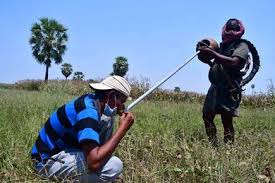mask: (97, 70, 128, 120), (218, 16, 244, 46)
